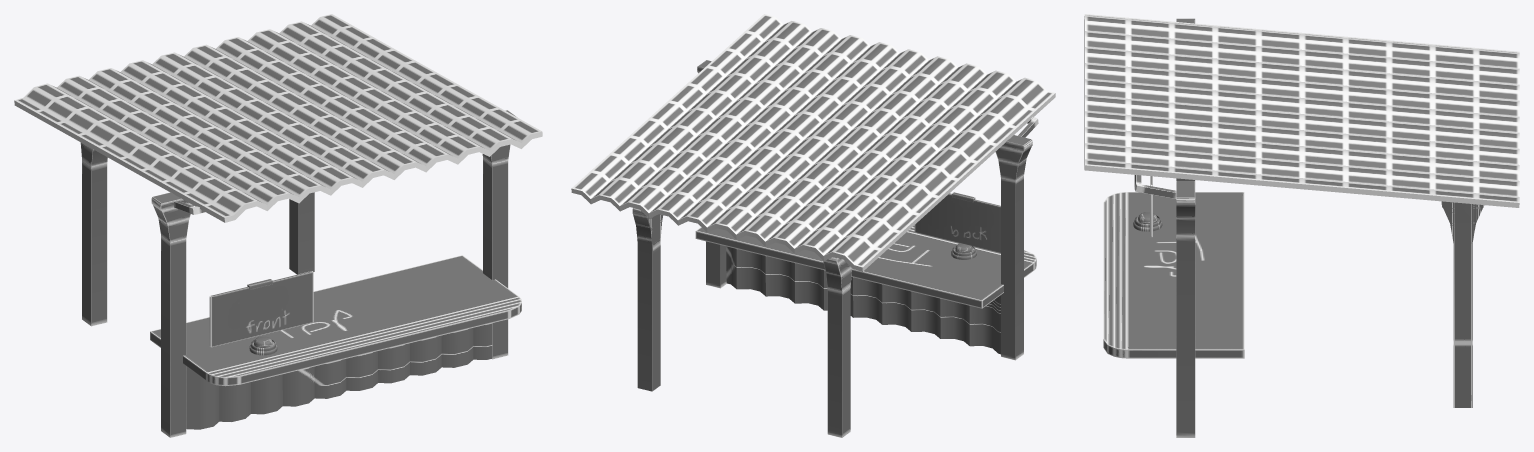
File: Shop.fbx
3 renders of one model, left to right at view 1: azimuth 30°, elevation 25°; view 2: azimuth 150°, elevation 25°; view 3: azimuth 270°, elevation 25°, orthographic. The views are drawn at different scales.
Visible parts, largest first — view 1: Shop; view 2: Shop; view 3: Shop.
Boxes of the visible parts, left/top/right/bottom form: Shop: left=14, top=14, right=542, bottom=437; Shop: left=571, top=14, right=1055, bottom=437; Shop: left=1084, top=14, right=1519, bottom=437.
Bounding box in the file's own units: 374 × 259 × 382.
7 materials, 7 textured.
